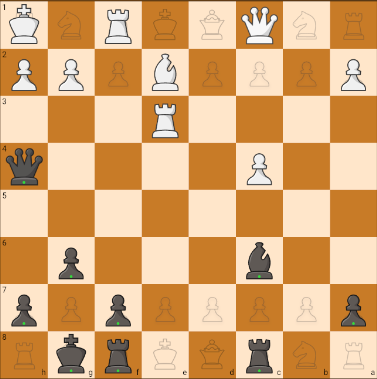bb: (245, 241, 277, 282)
bk: (3, 145, 45, 188), (51, 332, 91, 374)
bp: (8, 288, 42, 331), (335, 290, 371, 329), (53, 239, 86, 281), (101, 292, 137, 329)
br: (96, 335, 140, 377), (242, 337, 281, 377)
wb: (143, 53, 186, 93)
wk: (2, 4, 47, 47), (241, 145, 283, 190)
wp: (332, 55, 376, 95), (52, 56, 88, 94)
wq: (240, 3, 284, 46), (5, 56, 40, 92)
wr: (97, 4, 137, 46), (148, 100, 182, 139)
